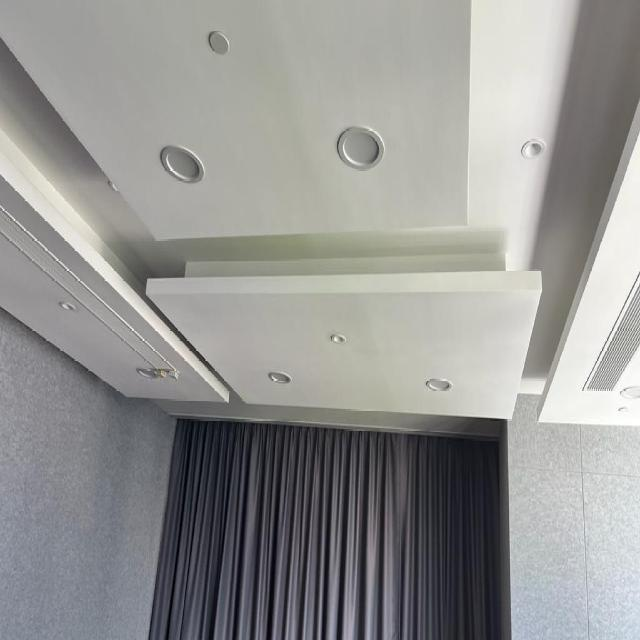Light-Closed: (332, 117, 388, 175), (156, 138, 208, 193), (518, 130, 549, 166), (425, 370, 454, 400), (55, 290, 82, 318), (133, 359, 160, 384), (265, 364, 291, 389), (616, 383, 640, 403), (330, 328, 346, 345)
